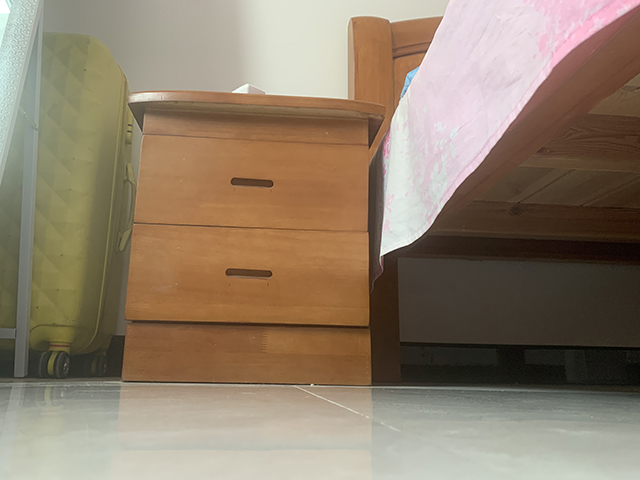bed: (347, 1, 640, 390)
cabinet: (120, 89, 388, 387)
